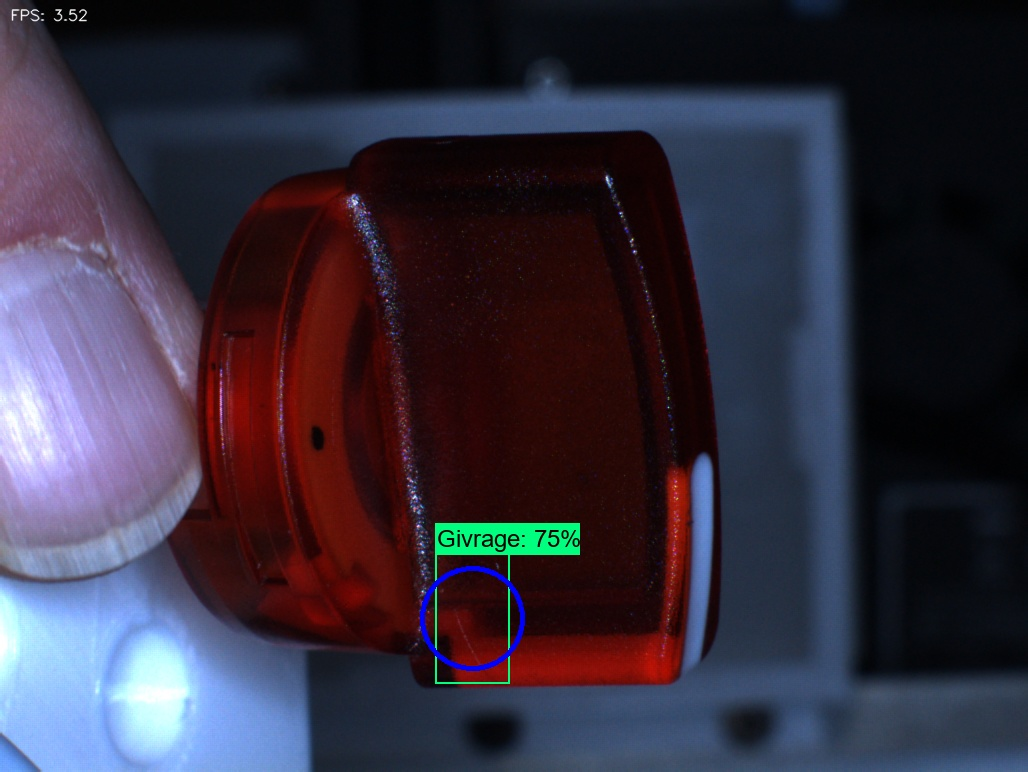PointNoir: (283, 403, 355, 487)
